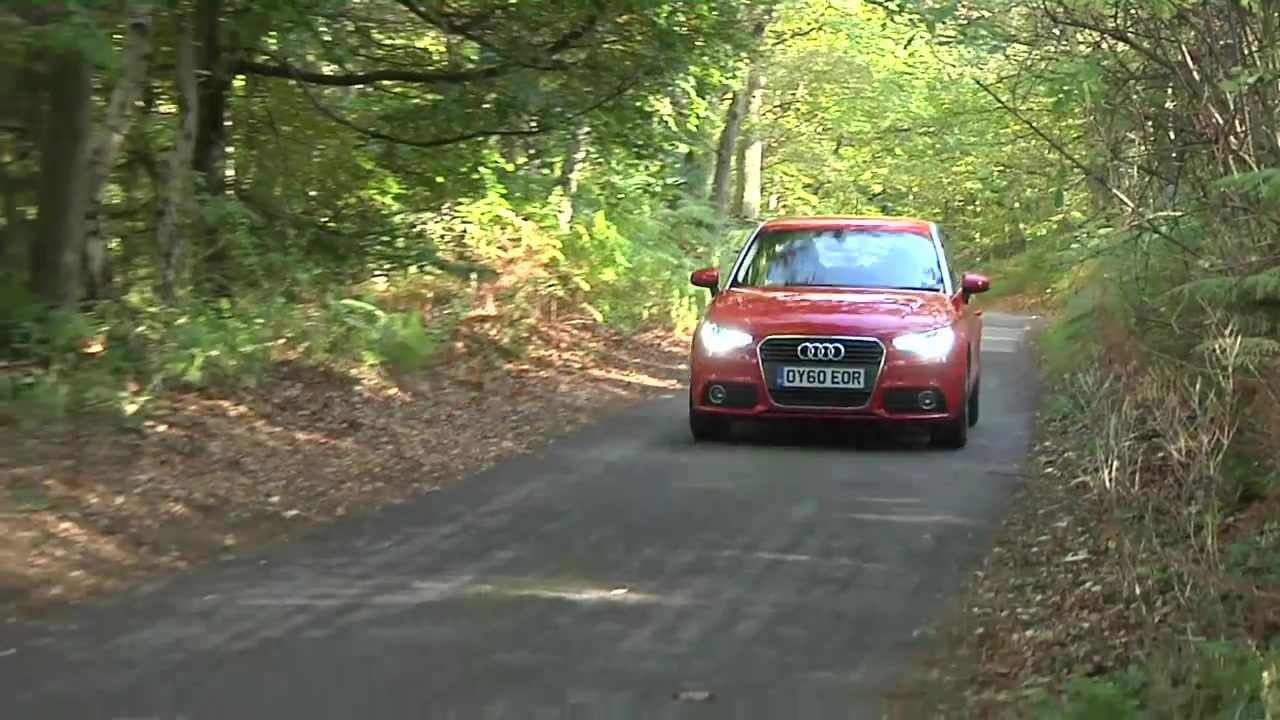car: (685, 212, 994, 446)
